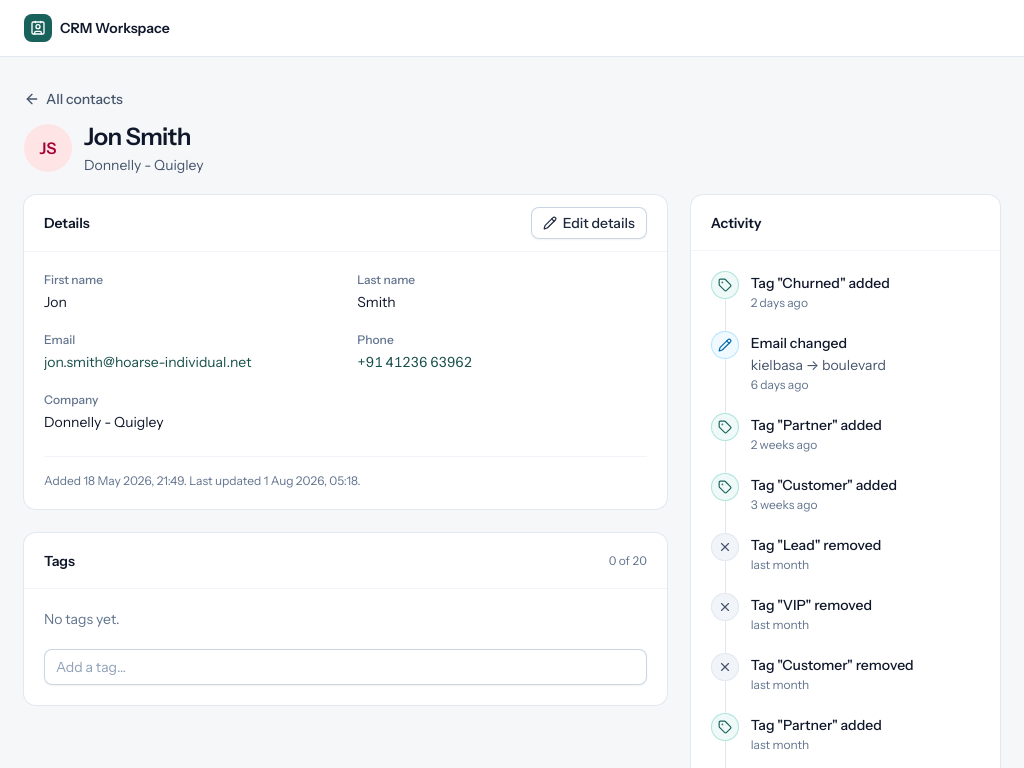
Test: ConflictDialog flow › keeps my edit on top of their changes and saves it
Click the button "Edit details" at (589, 223), box left=531, top=207, right=647, bottom=239
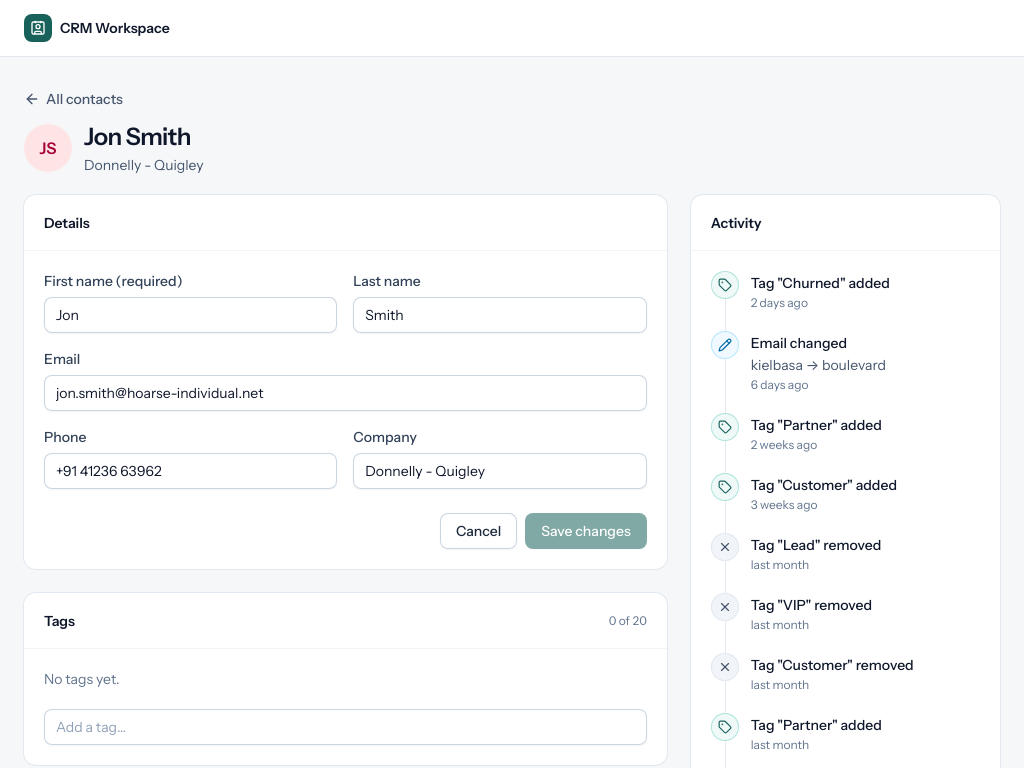
Replace the text in the field labelled "Email" with "mine@example.com" at (345, 393), box left=44, top=375, right=647, bottom=411
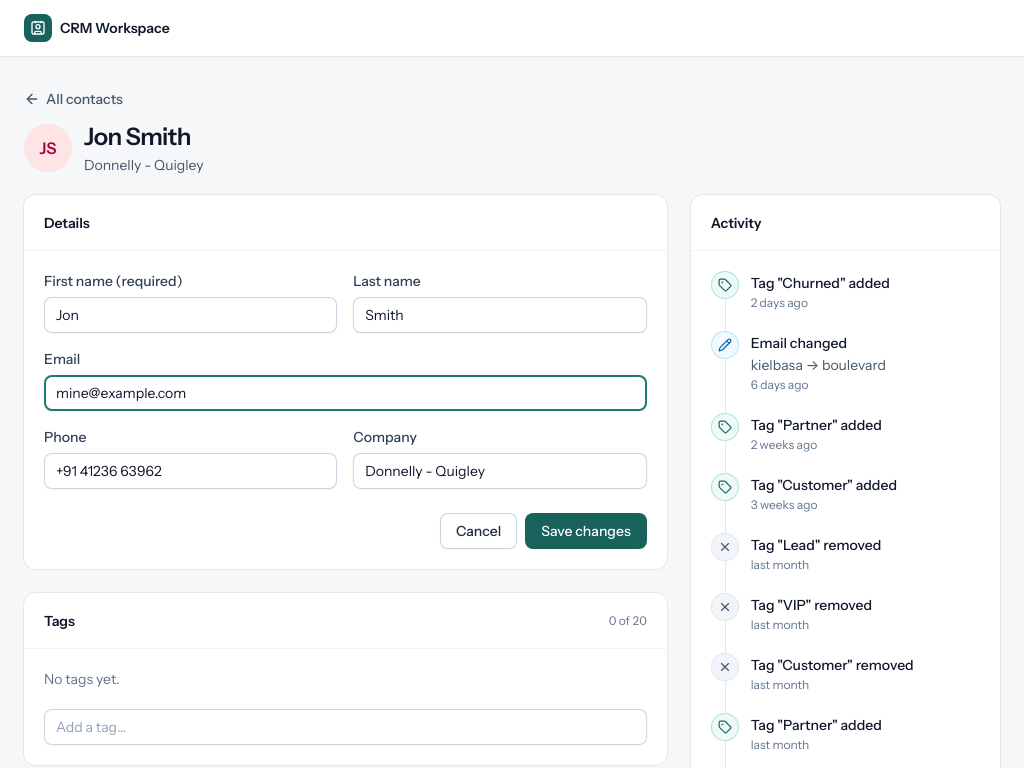
Click the button "Save changes" at (586, 531), box left=525, top=513, right=647, bottom=549
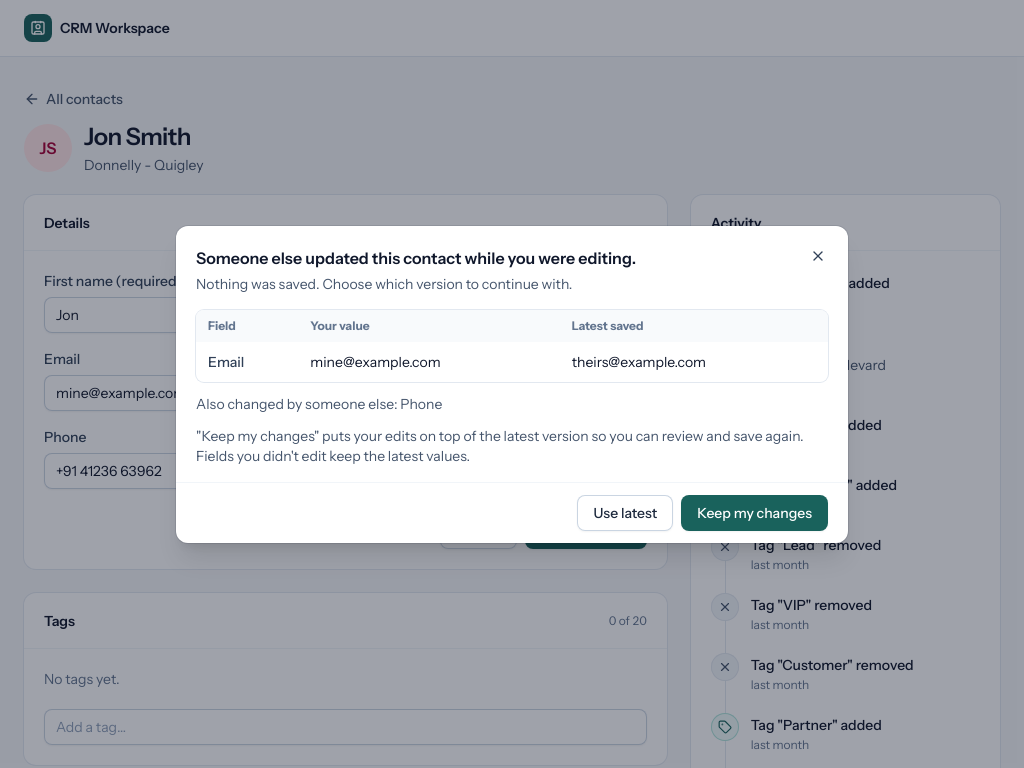
Click the button "Keep my changes" at (755, 512), box left=681, top=494, right=828, bottom=530
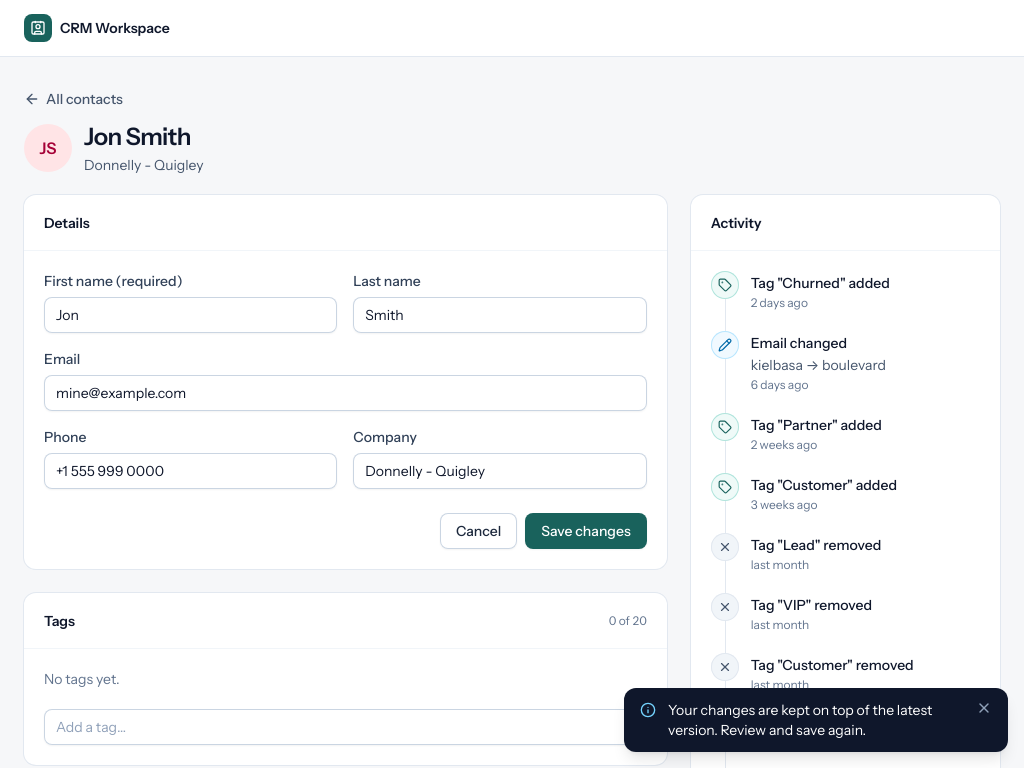
Expected: the field labelled "Phone" holds "+1 555 999 0000", left=44, top=453, right=337, bottom=489
Click the button "Save changes" at (586, 531), box left=525, top=513, right=647, bottom=549
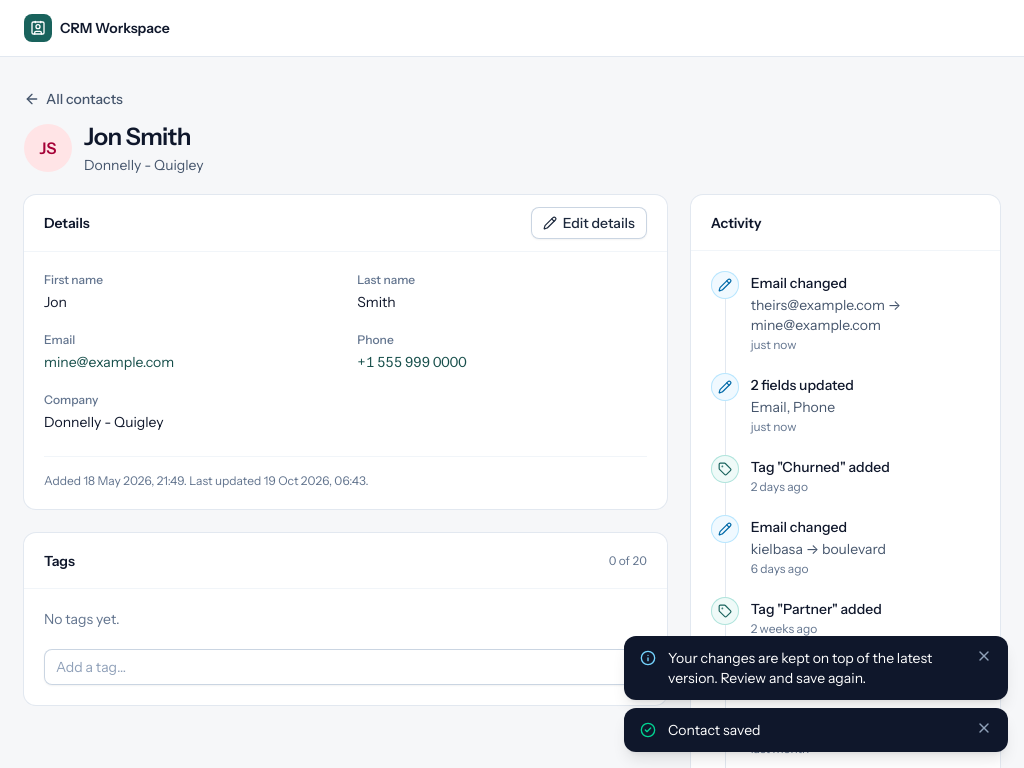
Expected: the text "Contact saved" is shown, left=668, top=721, right=760, bottom=739
